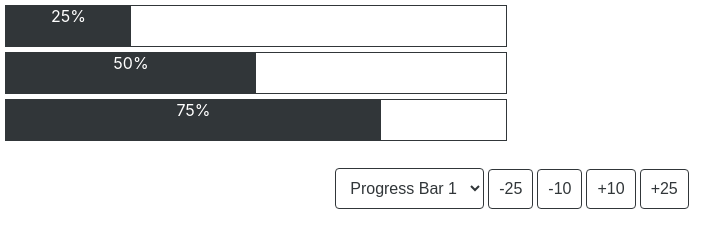
it: Progress bars should behave as expected › should not allow third progress bar to exceed past 0%
// select the second progress bar
Select "Progress Bar 3" in the dropdown at (410, 188), box x1=335 y1=168 x2=484 y2=209
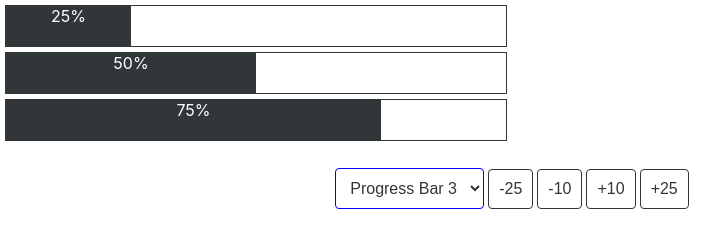
Click the button "-25" at (511, 189), box x1=488 y1=169 x2=533 y2=209
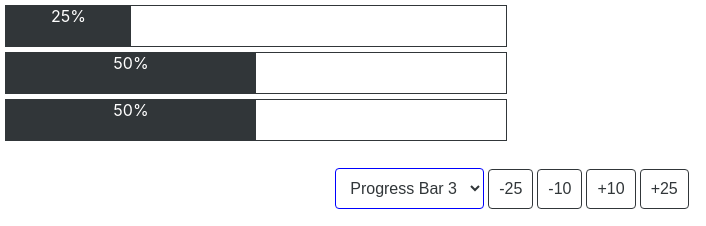
Click the button "-25" at (511, 189), box x1=488 y1=169 x2=533 y2=209
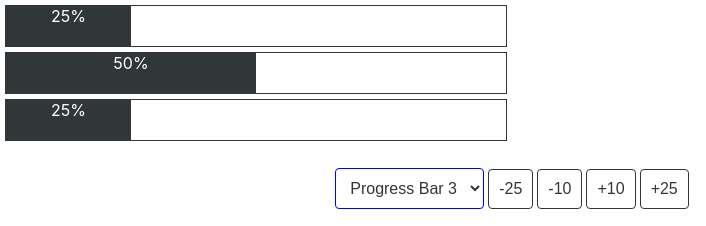
Click the button "-25" at (511, 189), box x1=488 y1=169 x2=533 y2=209
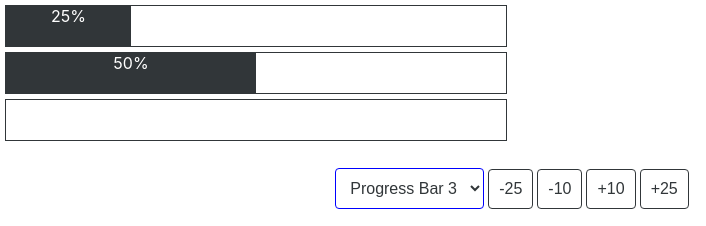
Click the button "+10" at (611, 189), box x1=586 y1=169 x2=636 y2=209
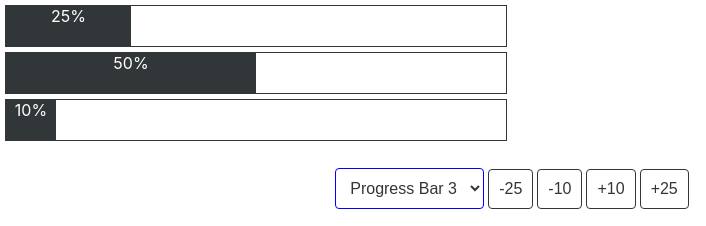
Expected: the text "75%" reads "10%", x1=6 y1=100 x2=56 y2=140
